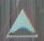Speed Breaker ahead: (6, 5, 41, 40)
